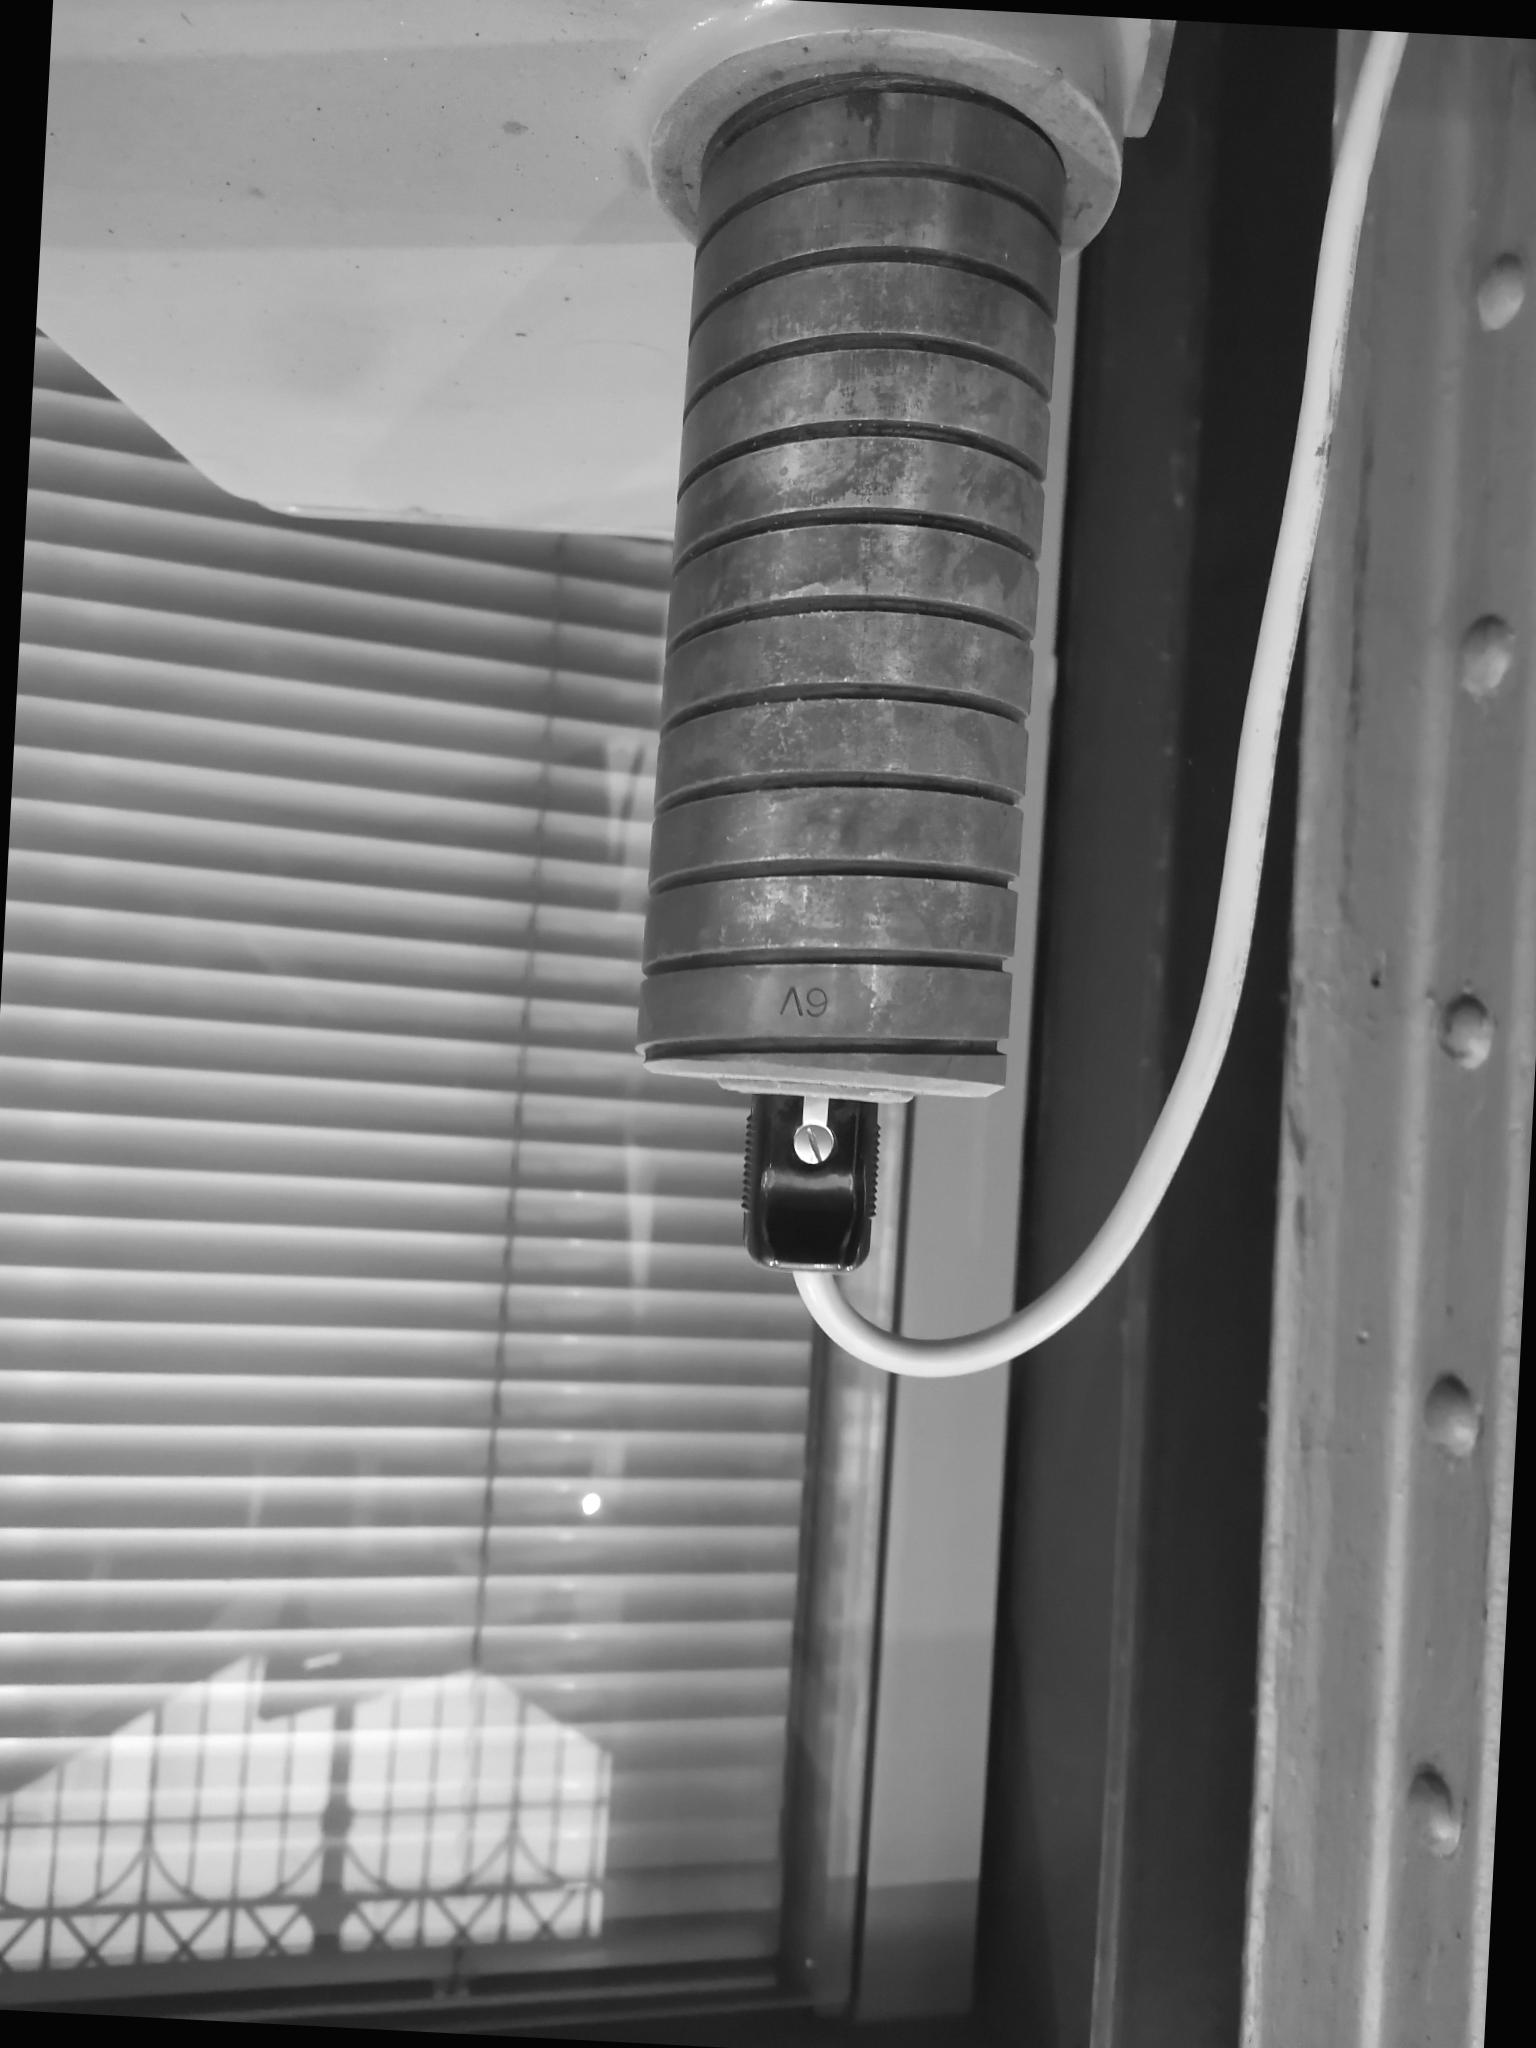slotted: (789, 1119, 837, 1166)
